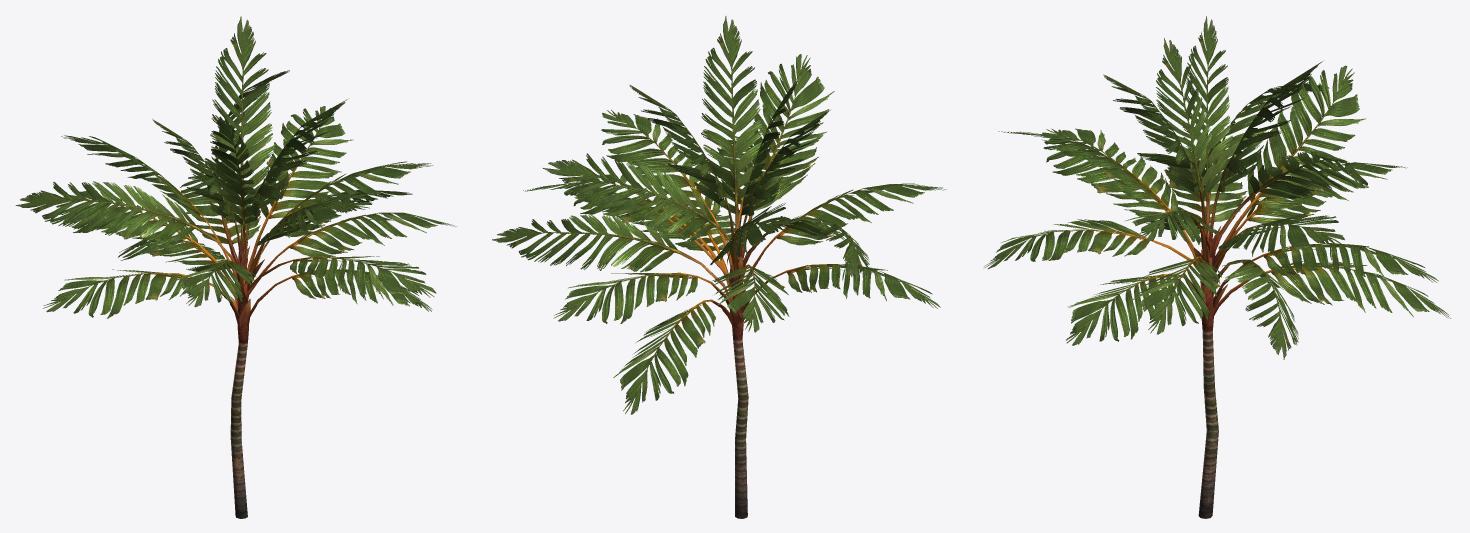
Rendered from MK4_OrangePalm2.DAE.
3 views of the same model, side by side, from view 1: azimuth 30°, elevation 25°; view 2: azimuth 150°, elevation 25°; view 3: azimuth 270°, elevation 25° (orthographic). The views are drawn at different scales.
Parts seen in each view (by area): view 1: MK4_OrangePalm200, MK4_OrangePalm50; view 2: MK4_OrangePalm200, MK4_OrangePalm50; view 3: MK4_OrangePalm200, MK4_OrangePalm50.
Boxes of the visible parts, left/top/right/bottom form: MK4_OrangePalm200: left=15, top=16, right=456, bottom=518; MK4_OrangePalm50: left=21, top=36, right=437, bottom=319; MK4_OrangePalm200: left=492, top=16, right=946, bottom=518; MK4_OrangePalm50: left=509, top=41, right=922, bottom=381; MK4_OrangePalm200: left=983, top=16, right=1450, bottom=518; MK4_OrangePalm50: left=997, top=20, right=1427, bottom=352.
Size of what is drawn, in the model's own units: 28.31 by 26.34 by 29.7.
